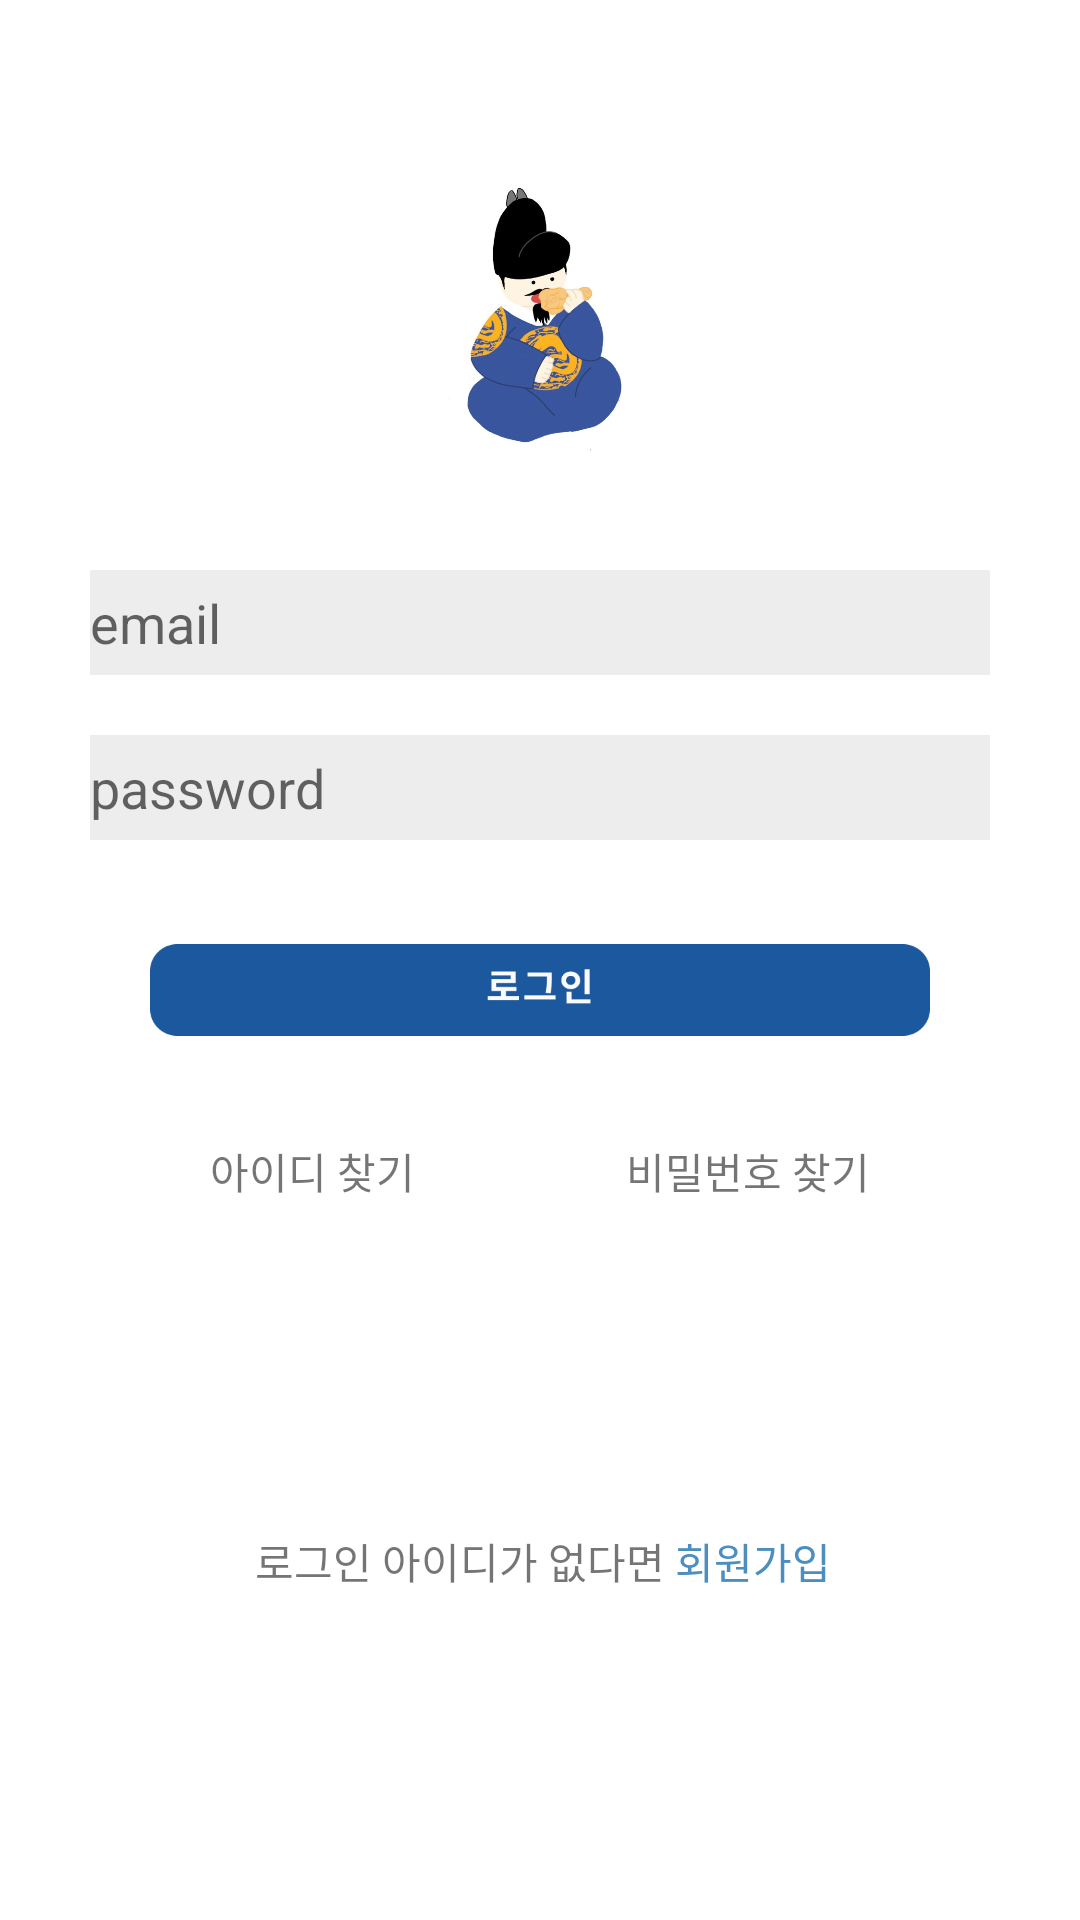

Icons on this 1080x1920 Android screen, each with its box as (x1, y1, x2, y2):
character: (467, 188, 622, 451)
